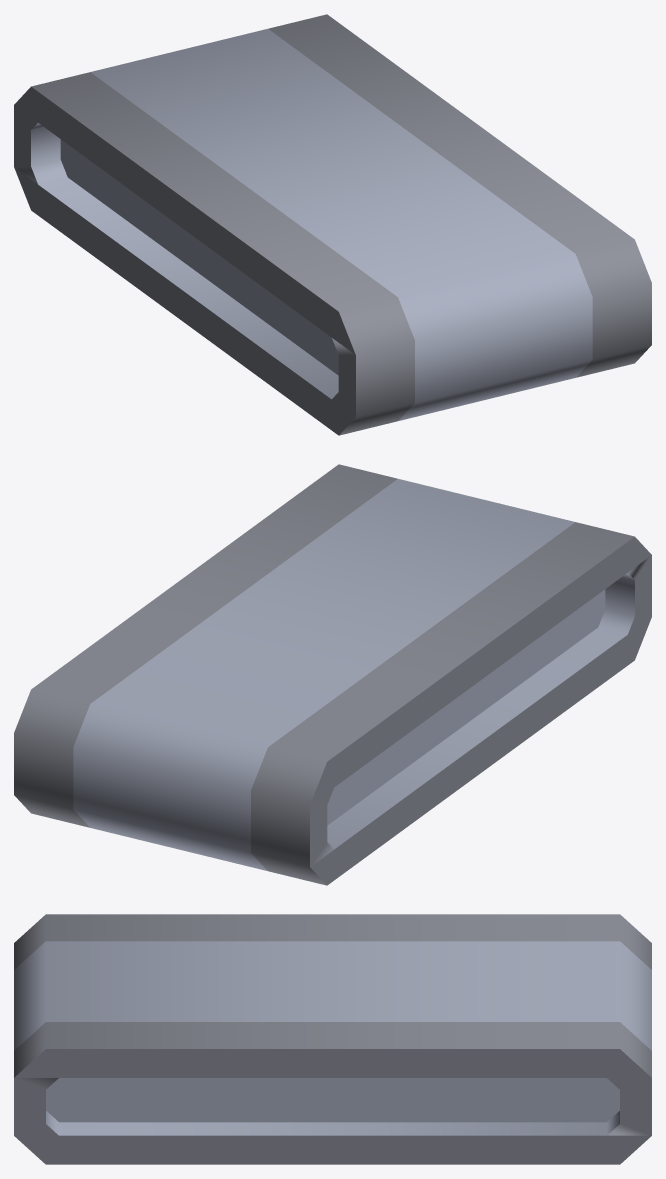
Rendered from conveyor-long-stripe.fbx.
3 views of the same model, one above another, from view 1: azimuth 30°, elevation 25°; view 2: azimuth 150°, elevation 25°; view 3: azimuth 270°, elevation 25° (orthographic). The views are drawn at different scales.
Visible parts, largest first — view 1: conveyor-long-stripe; view 2: conveyor-long-stripe; view 3: conveyor-long-stripe.
Boxes of the visible parts, x1,y1,x2,y2 form: conveyor-long-stripe: (14,14,651,435); conveyor-long-stripe: (14,464,651,885); conveyor-long-stripe: (14,914,651,1164).
Bounding box in the file's own units: 100 × 40 × 200.
